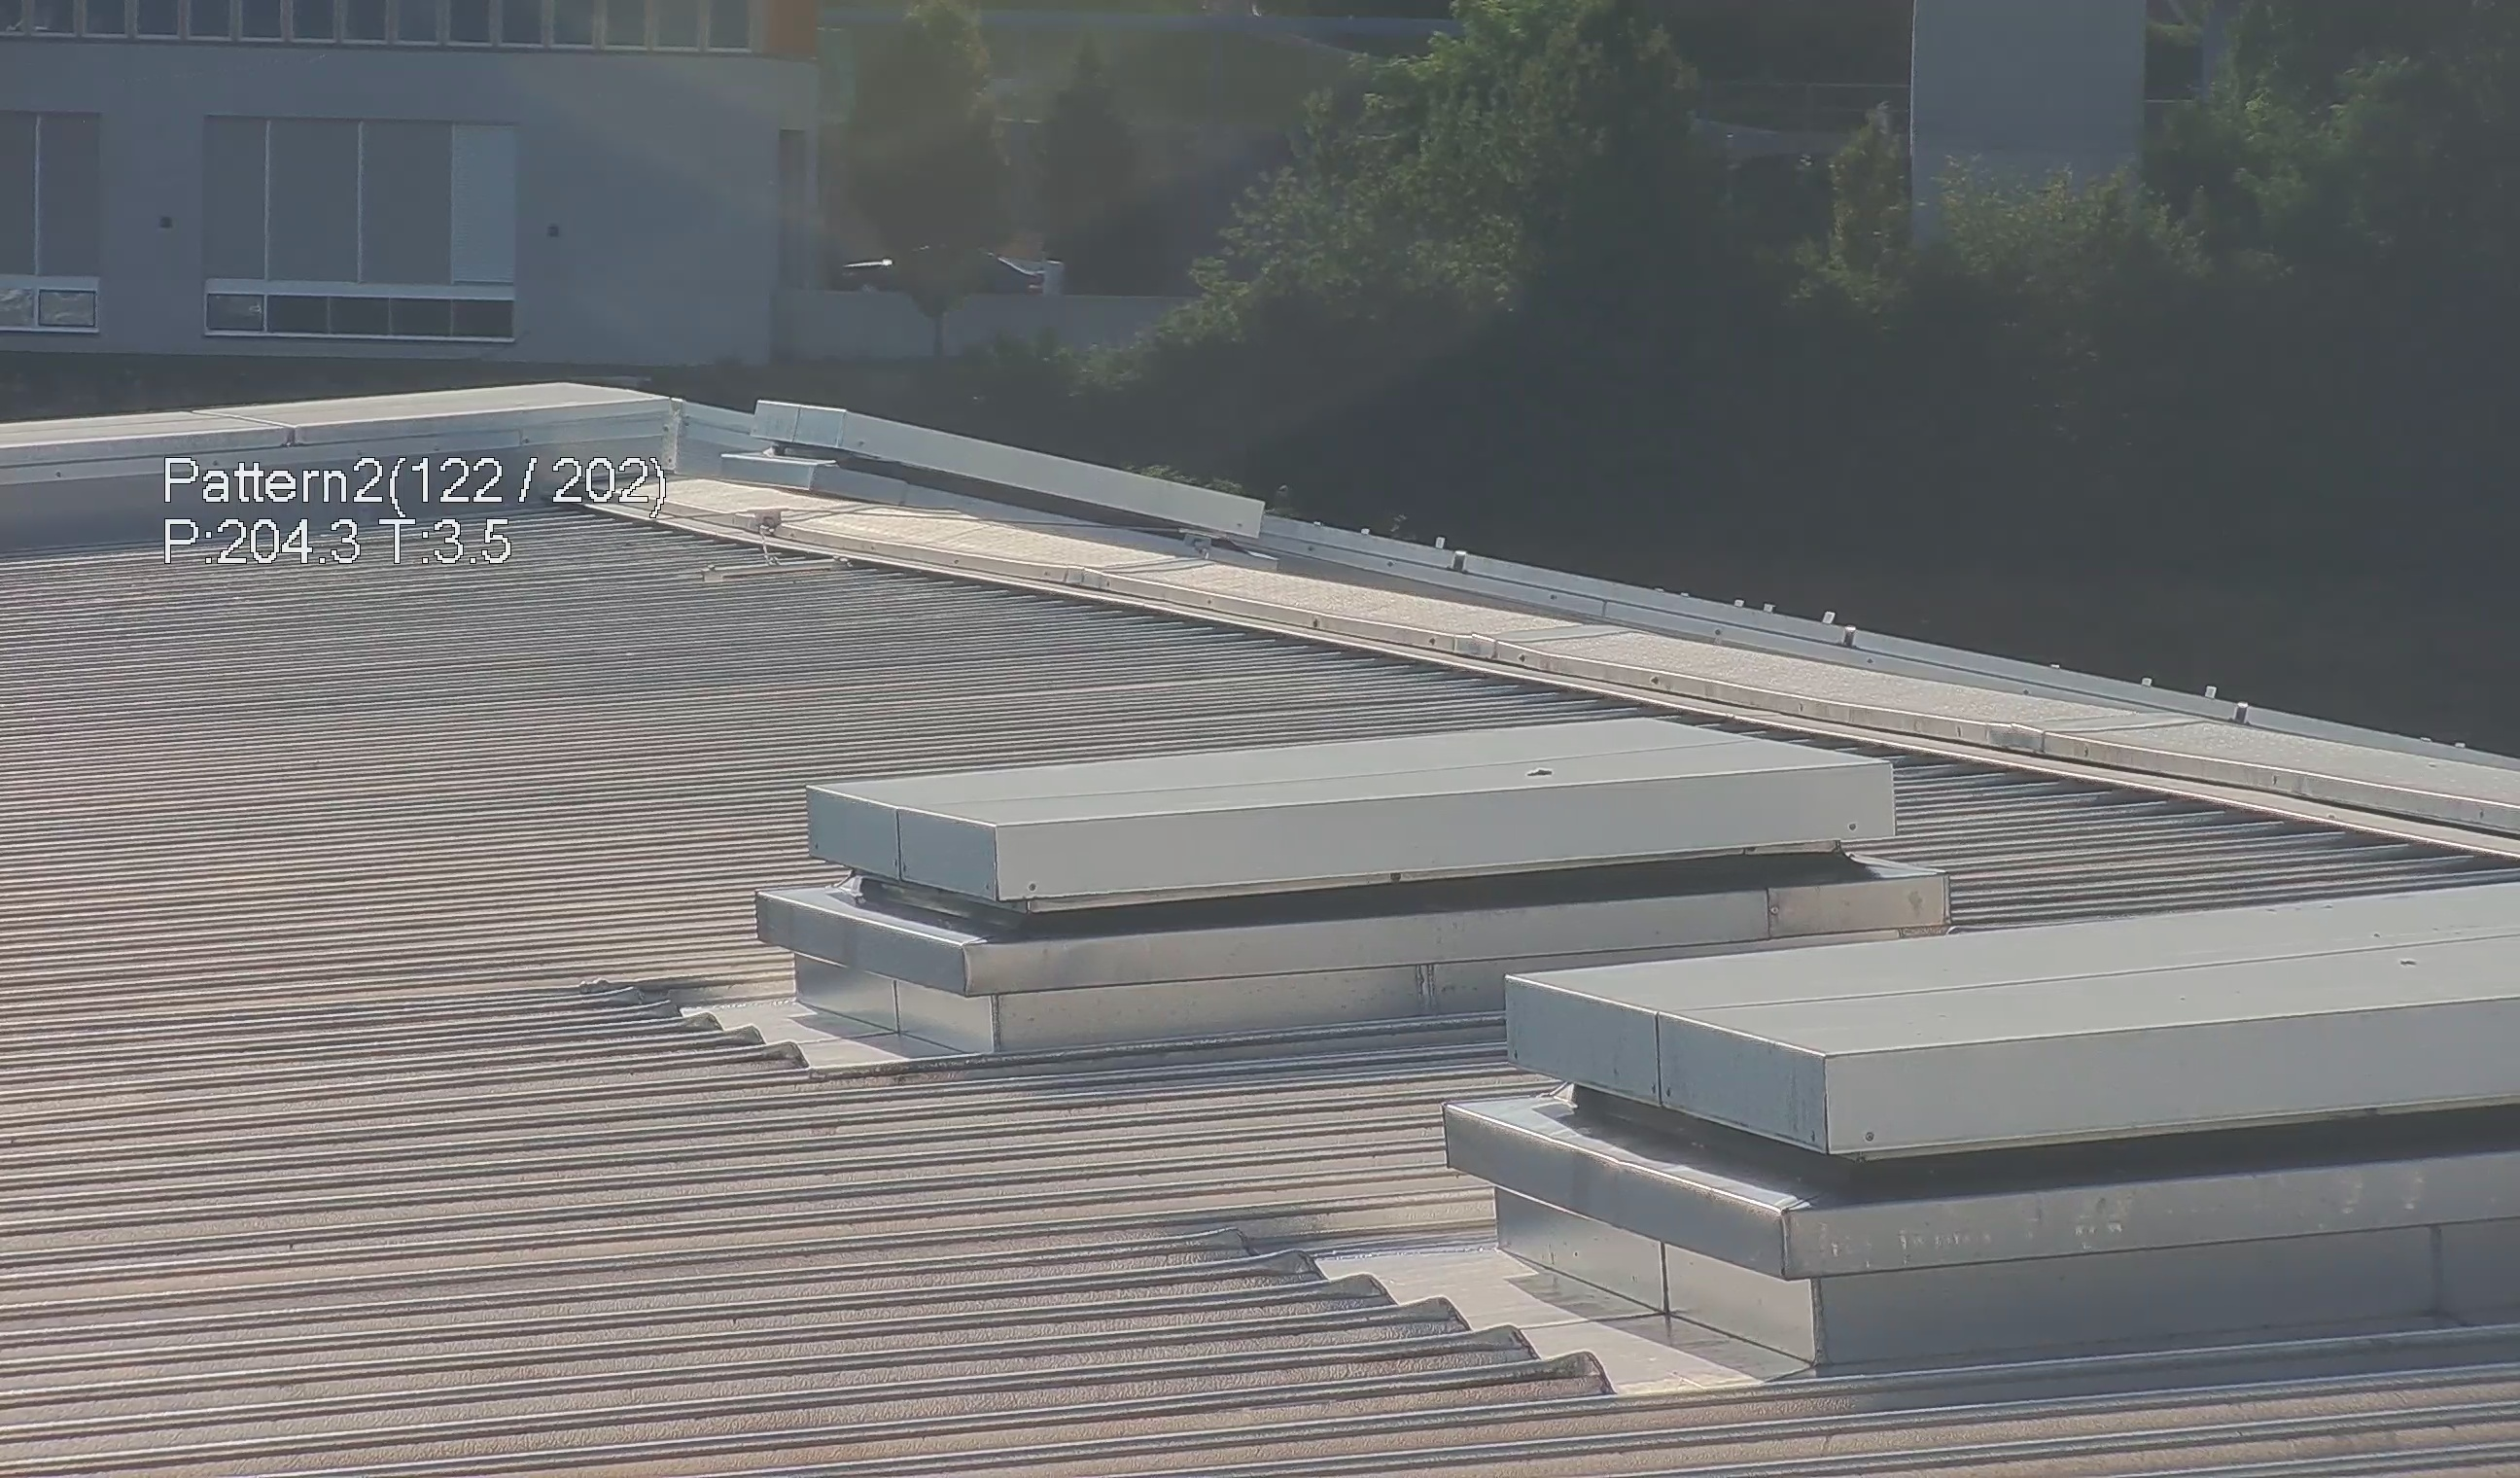Other: (839, 220, 1052, 329)
